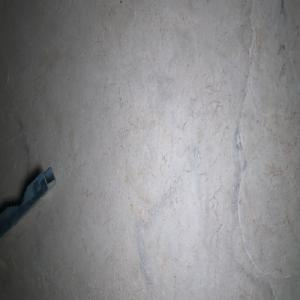ClampPart: (0, 165, 57, 239)
